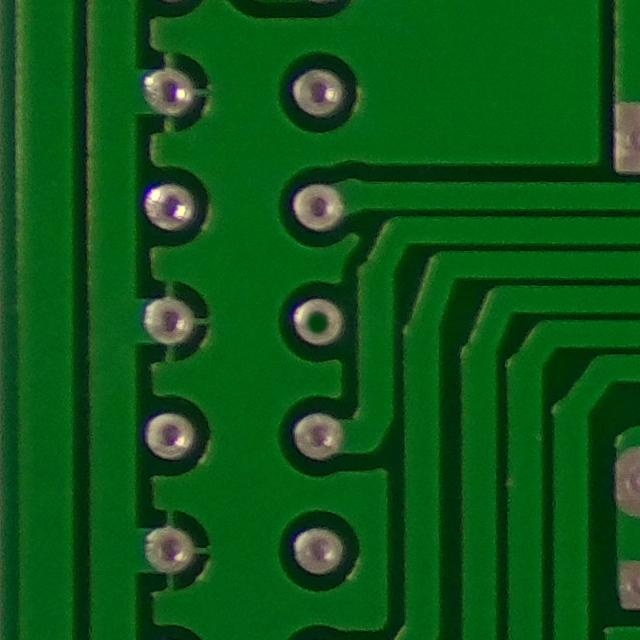missing_hole: (292, 287, 348, 353)
